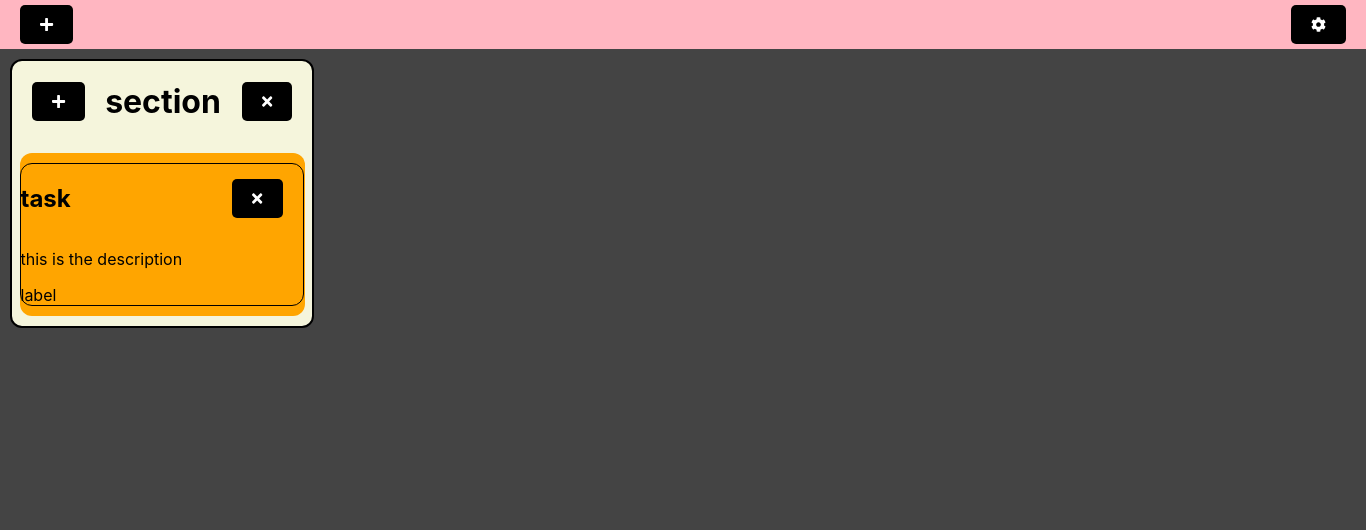
it: mocking fetch rest POST functions › POST function for Task component
Click the 3rd button at (59,102), box [32,82,85,121]
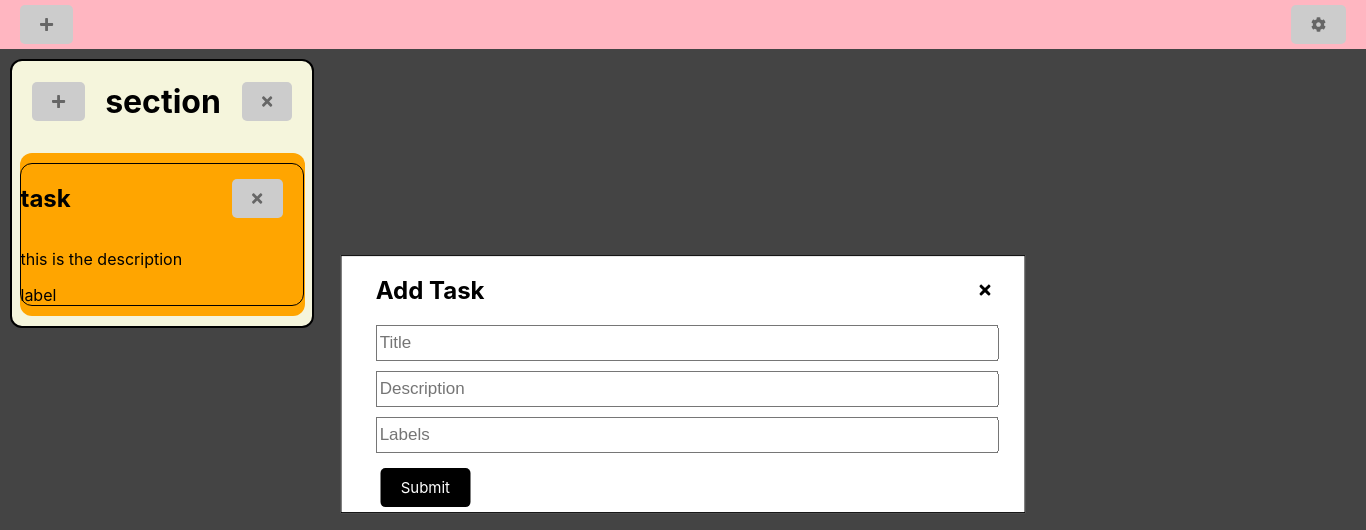
Type "test2" into the field with placeholder "Title" at (687,343), box [376,325,998,361]
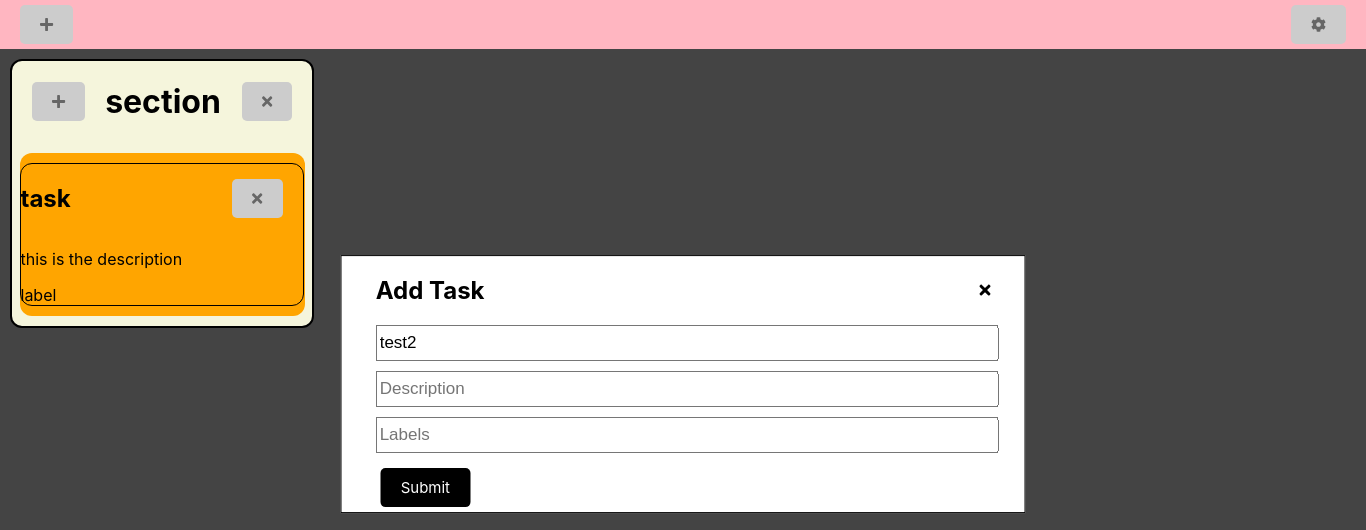
Type "test desc" into the field with placeholder "Description" at (687,389), box [376,371,998,407]
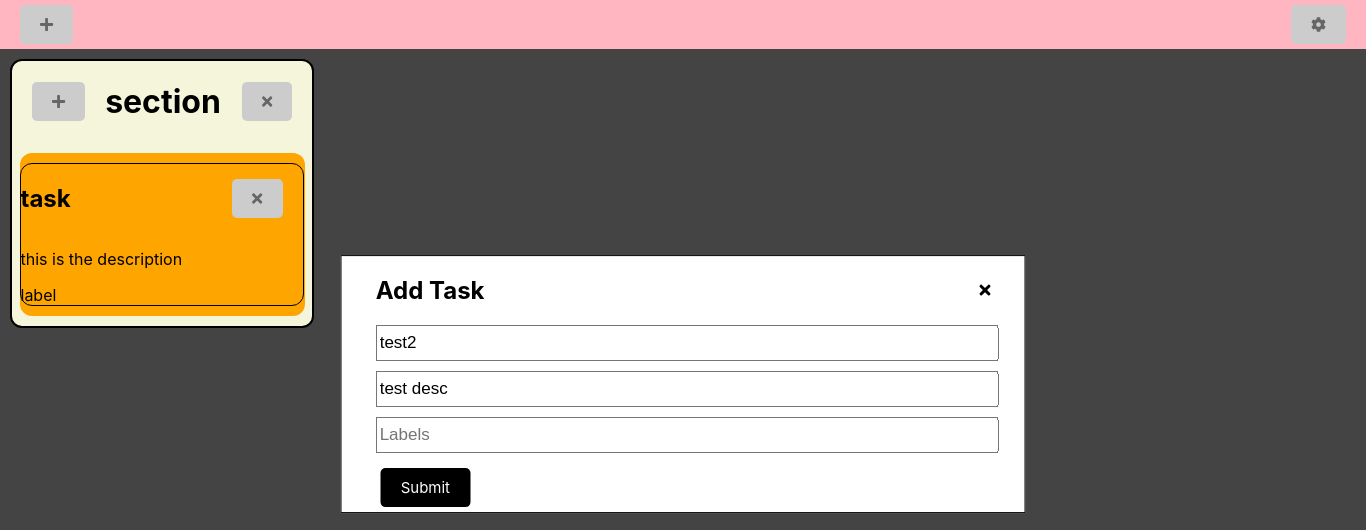
Type "testing" into the field with placeholder "Labels" at (687,435), box [376,417,998,453]
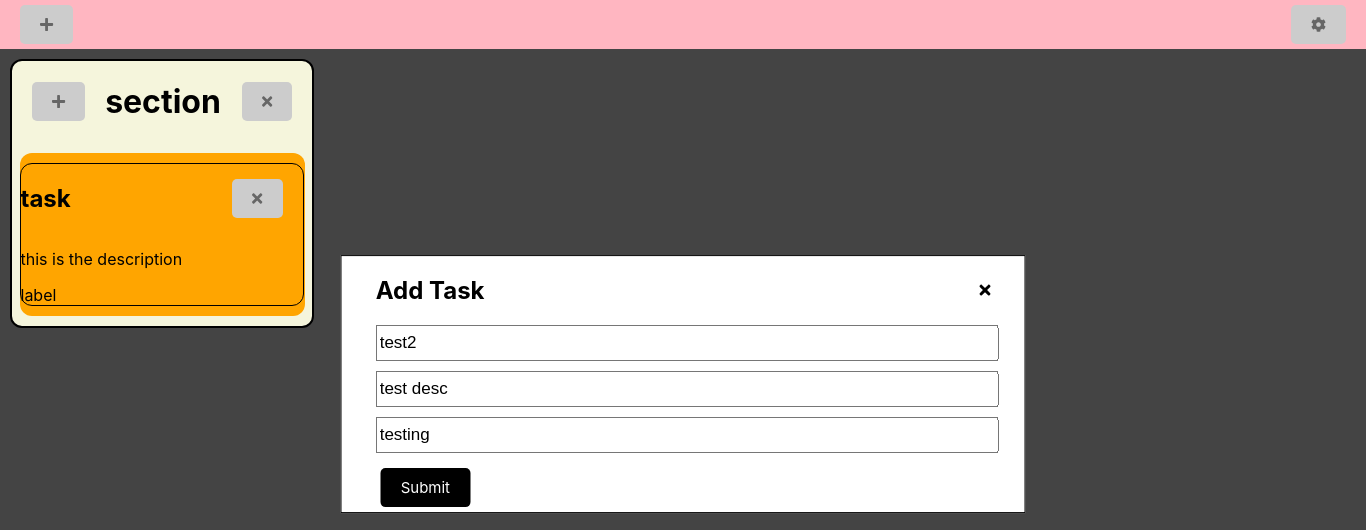
Click the button "Submit" at (425,487), box [381,468,470,507]
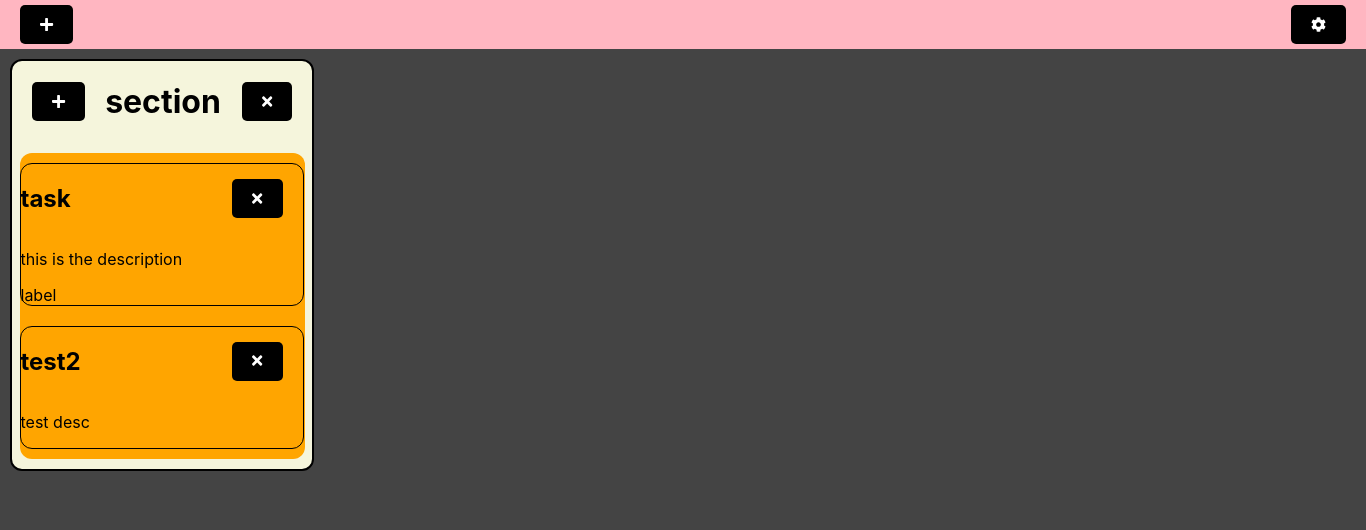
expect the heading "test2" is shown: met, box [20,347,81,376]
